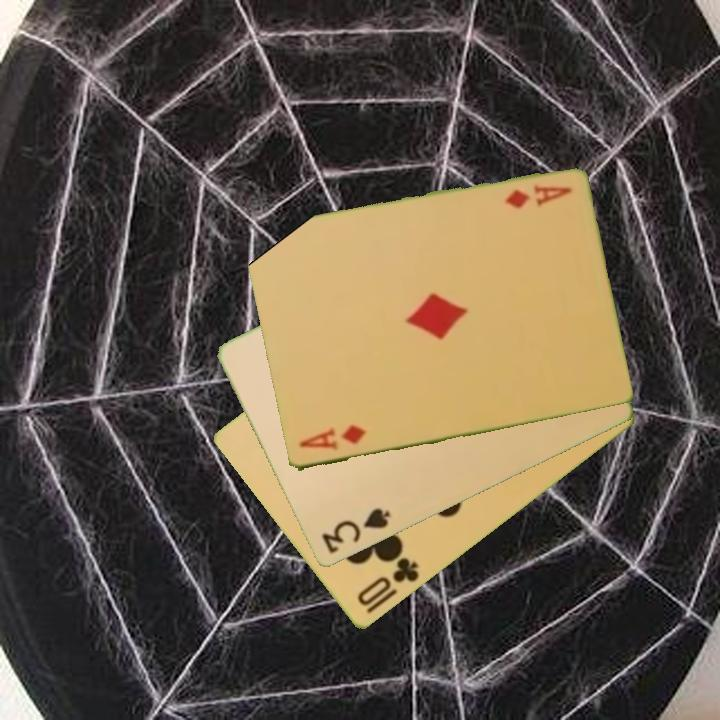10c: (353, 554, 422, 610)
3s: (318, 505, 393, 558)
Ad: (295, 421, 369, 454), (501, 181, 575, 212)
